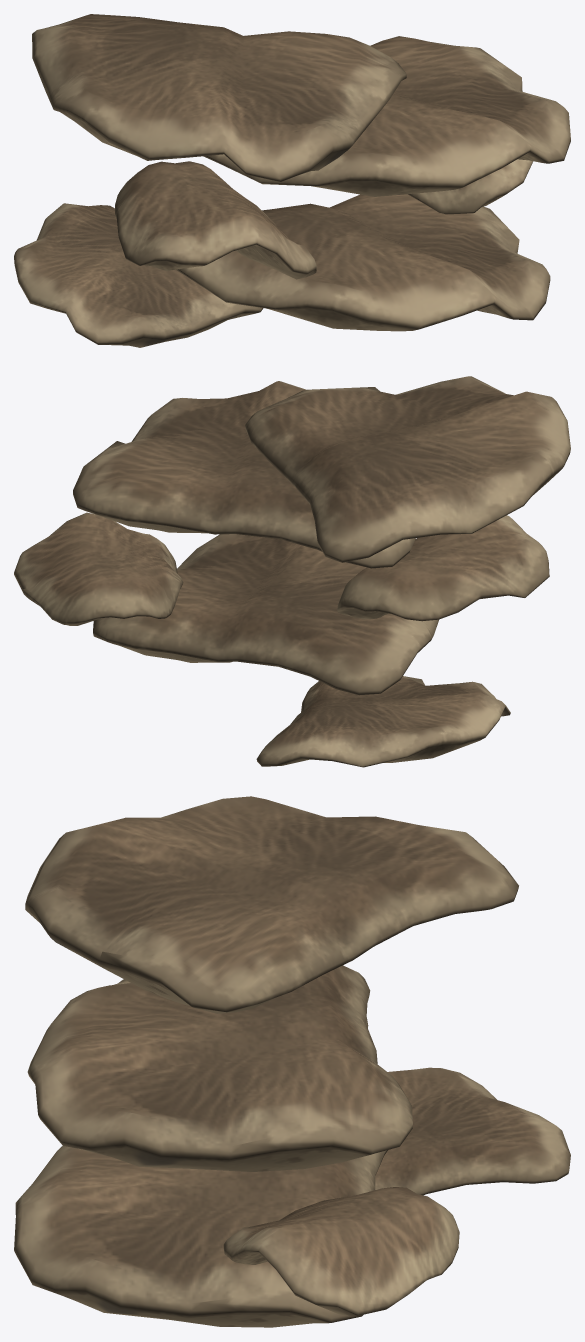
File: shelf_fungus.glb
3 renders of one model, top to bottom at view 1: azimuth 30°, elevation 25°; view 2: azimuth 150°, elevation 25°; view 3: azimuth 270°, elevation 25°, orthographic. The views are drawn at different scales.
Parts seen in each view (by area): view 1: shelf_fungus; view 2: shelf_fungus; view 3: shelf_fungus.
Part boxes in pixels (x1,y1,x2,y2): shelf_fungus: [14, 14, 570, 347]; shelf_fungus: [14, 376, 570, 767]; shelf_fungus: [14, 796, 570, 1327].
Size of the model in its own units: 1.37 by 0.767 by 1.1.
Materials: 1 (1 with a texture image).
